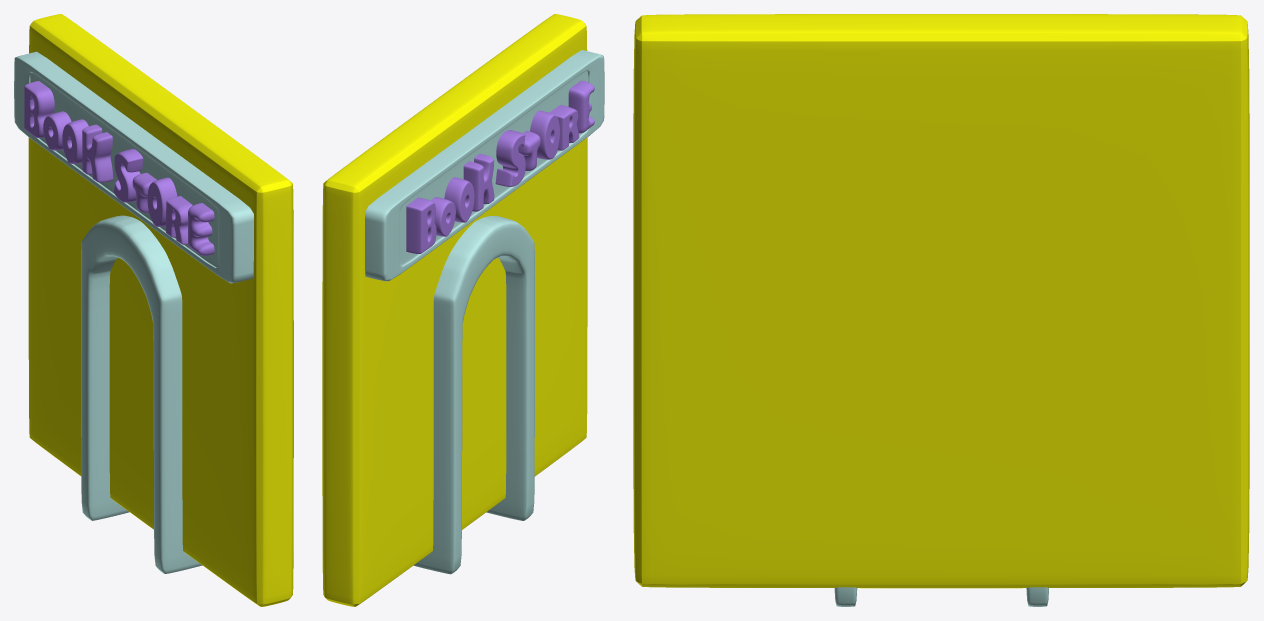
3 renders of one model, left to right at view 1: azimuth 30°, elevation 25°; view 2: azimuth 150°, elevation 25°; view 3: azimuth 270°, elevation 25°, orthographic. The views are drawn at different scales.
Parts seen in each view (by area): view 1: polySurface1304; view 2: polySurface1304; view 3: polySurface1304.
Boxes of the visible parts, <box> form: polySurface1304: <box>14,14,293,606</box>; polySurface1304: <box>322,14,604,606</box>; polySurface1304: <box>633,14,1249,606</box>.
Bounding box in the file's own units: 0.1782 × 1.04 × 0.9995.
